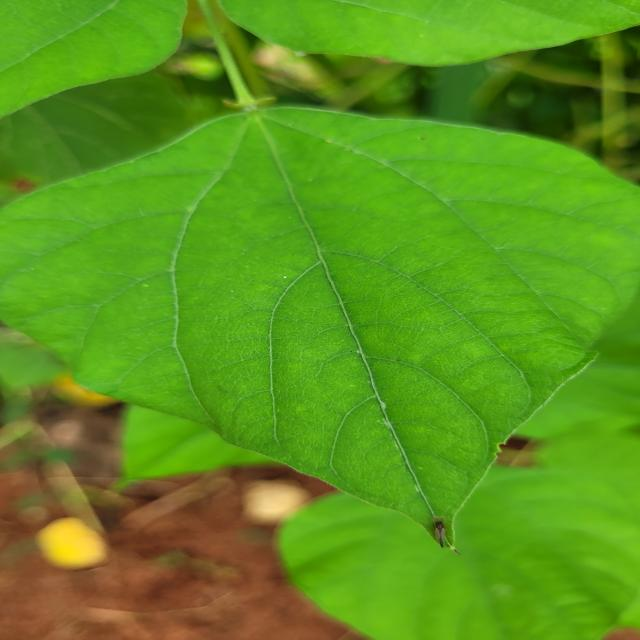Dolicos bean_healthy: (0, 108, 640, 542), (274, 471, 639, 640), (212, 0, 640, 69), (0, 0, 183, 111)
